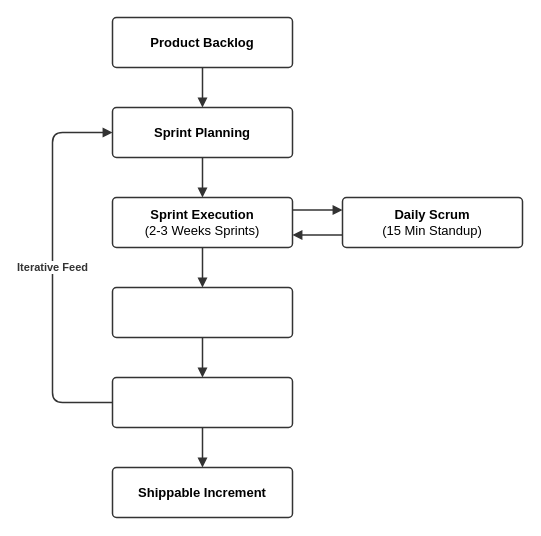
The diagram is 541 pixels wide and 536 high, and some of its shapes have lost their labels. Each missing label, with the centre of its shape:
"Sprint Retrospective" goes at point 202,402.
"Sprint Review (Working Demo)" goes at point 202,312.
